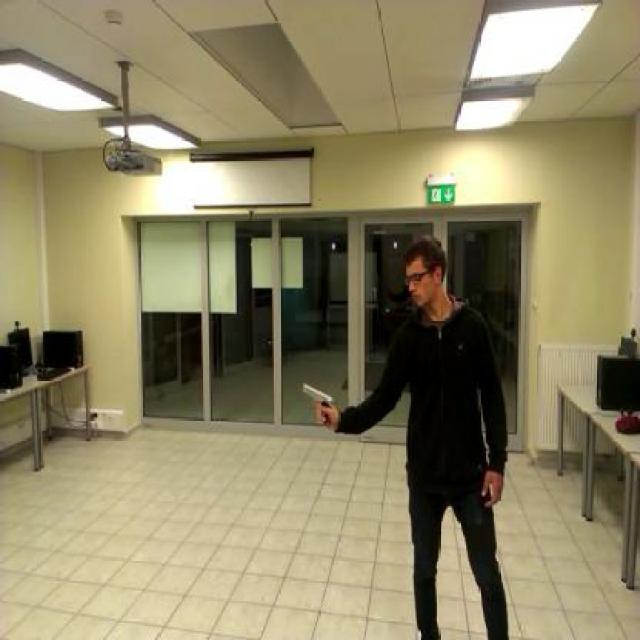Guns: (301, 383, 334, 427)
